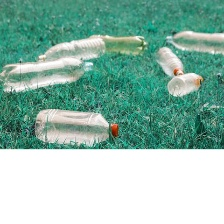bottle: (0, 51, 99, 96), (30, 101, 121, 149), (32, 34, 110, 66), (163, 27, 224, 57), (82, 32, 150, 56), (151, 45, 190, 79), (162, 69, 205, 98)
